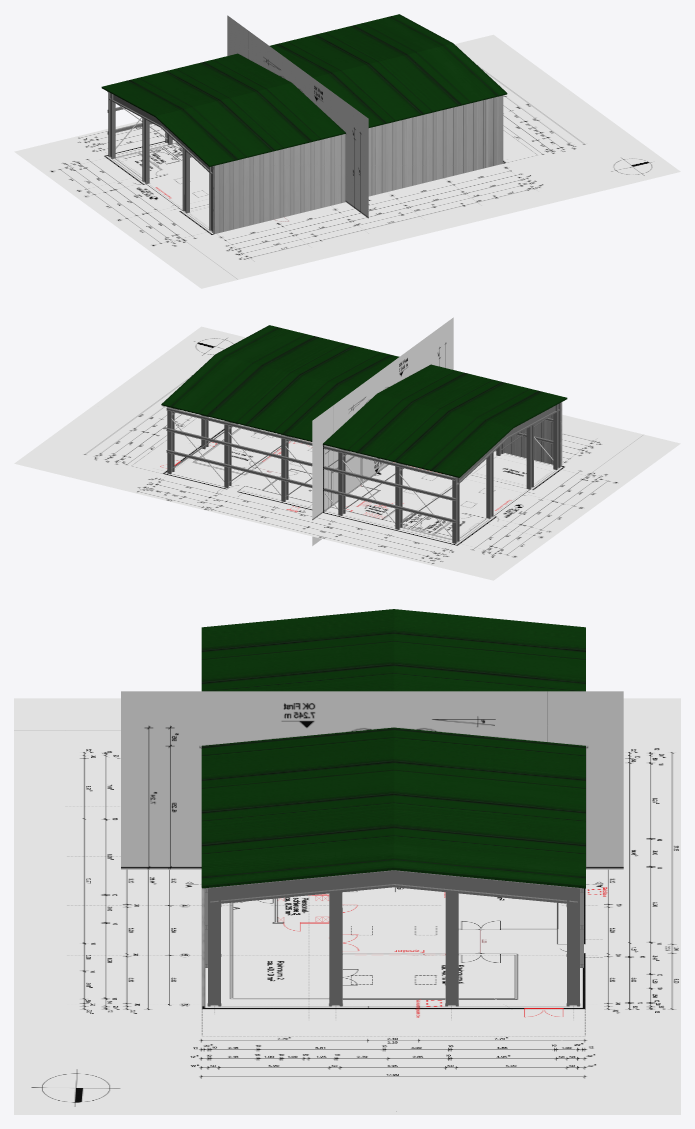
The model's file is 210729_01_testhalle_02.gltf.
3 renders of one model, top to bottom at view 1: azimuth 30°, elevation 25°; view 2: azimuth 150°, elevation 25°; view 3: azimuth 270°, elevation 25°, orthographic. The views are drawn at different scales.
Visible parts, largest first — view 1: grundriss, roof, wall_001, seitenriss, IBeam_roof_main.006, IBeam_vertical.007, IBeam_vertical.014, IBeam_vertical.017; view 2: grundriss, roof, seitenriss, wall_001, IBeam_horizontal.003, IBeam_horizontal.005, IBeam_horizontal.001, IBeam_roof_main.006, IBeam_vertical.007, IBeam_vertical.017, IBeam_vertical.002, IBeam_vertical.014 (+5 smaller); view 3: grundriss, roof, seitenriss, IBeam_roof_main.001, IBeam_vertical.020, IBeam_vertical.019, IBeam_vertical.009, IBeam_vertical.006.
Part boxes in pixels (<box>): grundriss: <box>14,34,680,288</box>; roof: <box>101,14,507,166</box>; wall_001: <box>213,95,503,233</box>; seitenriss: <box>227,15,368,218</box>; IBeam_roof_main.006: <box>108,93,213,174</box>; IBeam_vertical.007: <box>142,118,149,183</box>; IBeam_vertical.014: <box>108,92,115,158</box>; IBeam_vertical.017: <box>182,148,189,213</box>; grundriss: <box>14,326,680,580</box>; roof: <box>161,325,567,477</box>; seitenriss: <box>312,317,453,545</box>; wall_001: <box>495,402,562,466</box>; IBeam_horizontal.003: <box>166,407,455,480</box>; IBeam_horizontal.005: <box>166,428,455,501</box>; IBeam_horizontal.001: <box>166,449,455,522</box>; IBeam_roof_main.006: <box>452,405,559,486</box>; IBeam_vertical.007: <box>486,452,493,518</box>; IBeam_vertical.017: <box>526,424,533,489</box>; IBeam_vertical.002: <box>553,403,560,469</box>; IBeam_vertical.014: <box>452,477,459,543</box>; grundriss: <box>14,698,680,1114</box>; roof: <box>201,609,585,888</box>; seitenriss: <box>121,691,623,869</box>; IBeam_roof_main.001: <box>208,870,579,904</box>; IBeam_vertical.020: <box>329,892,342,1006</box>; IBeam_vertical.019: <box>445,892,458,1006</box>; IBeam_vertical.009: <box>567,889,579,1006</box>; IBeam_vertical.006: <box>208,888,220,1006</box>.
Size of the model in its own units: 46.27 by 11.58 by 31.3.
6 materials, 4 textured.
